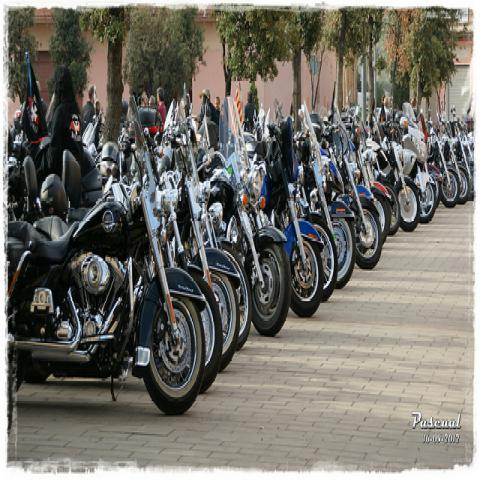motorcycle: (9, 96, 206, 416), (197, 96, 291, 338), (165, 97, 253, 352), (145, 129, 225, 394), (243, 94, 325, 321), (169, 131, 241, 381), (318, 77, 386, 273), (300, 99, 357, 291), (291, 132, 338, 304), (342, 87, 392, 245), (394, 110, 438, 223), (380, 122, 421, 234), (364, 123, 403, 237)
